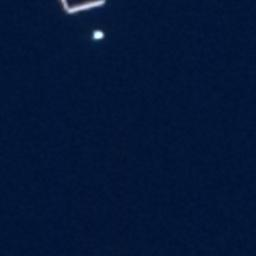square_solid: (55, 1, 110, 18)
